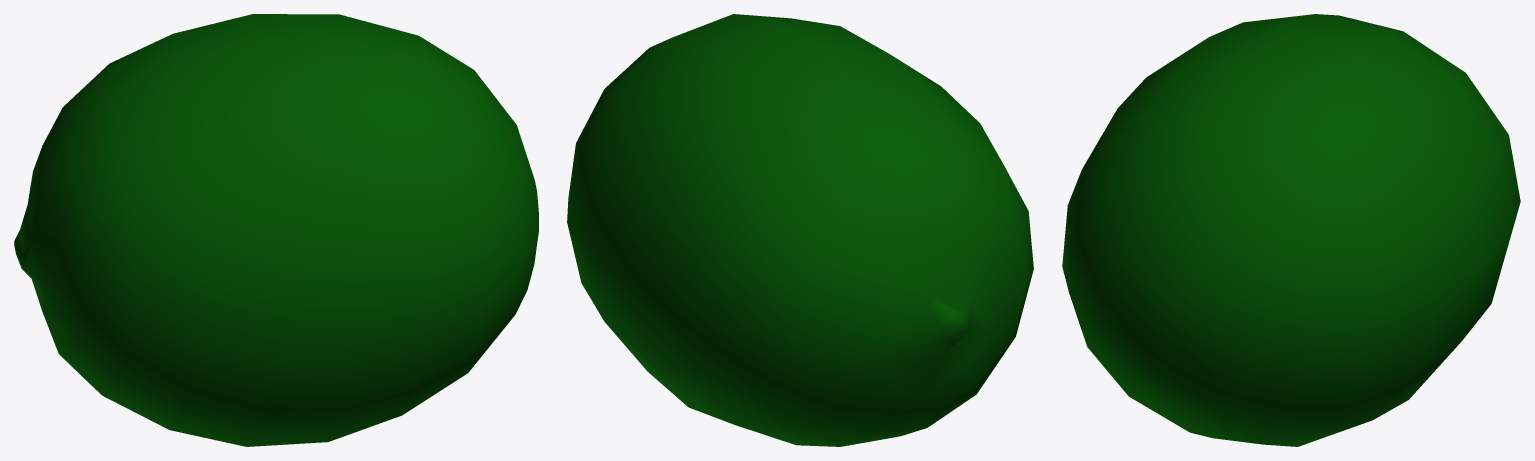
File: fruit04.FBX
3 renders of one model, left to right at view 1: azimuth 30°, elevation 25°; view 2: azimuth 150°, elevation 25°; view 3: azimuth 270°, elevation 25°, orthographic.
Parts seen in each view (by area): view 1: SM_fruit04_0; view 2: SM_fruit04_0; view 3: SM_fruit04_0.
Boxes of the visible parts, <box> form: SM_fruit04_0: <box>14,14,538,446</box>; SM_fruit04_0: <box>567,14,1033,446</box>; SM_fruit04_0: <box>1062,14,1520,446</box>.
Size of the model in its own units: 8.95 by 8.12 by 7.5.
